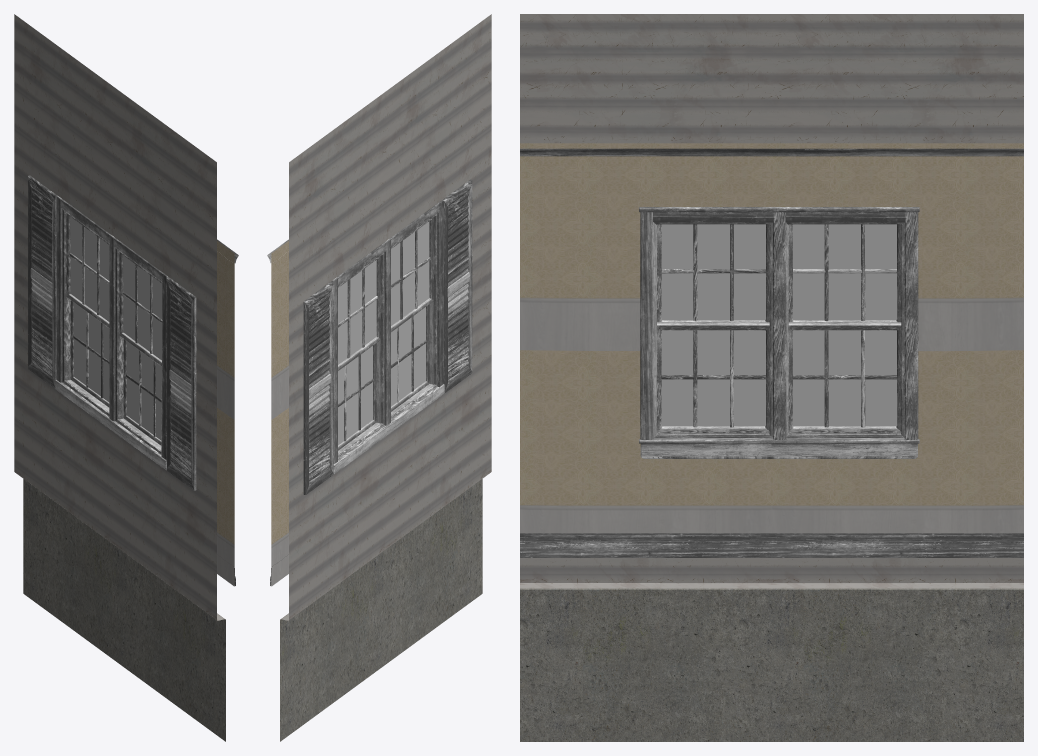
The model's file is SM_Window_Floor1_A3_400.fbx.
The picture shows the model from 3 angles, left to right: view 1: azimuth 30°, elevation 25°; view 2: azimuth 150°, elevation 25°; view 3: azimuth 270°, elevation 25°; orthographic projection. The views are drawn at different scales.
Parts seen in each view (by area): view 1: SM_Window_Floor1_A3_400_LOD0; view 2: SM_Window_Floor1_A3_400_LOD0; view 3: SM_Window_Floor1_A3_400_LOD0.
Boxes of the visible parts, x1=… form: SM_Window_Floor1_A3_400_LOD0: x1=14, y1=14, x2=238, y2=741; SM_Window_Floor1_A3_400_LOD0: x1=267, y1=14, x2=491, y2=741; SM_Window_Floor1_A3_400_LOD0: x1=520, y1=14, x2=1023, y2=741.
Bounding box in the file's own units: 19.19 × 280 × 443.
Materials: 7 (6 with a texture image).
